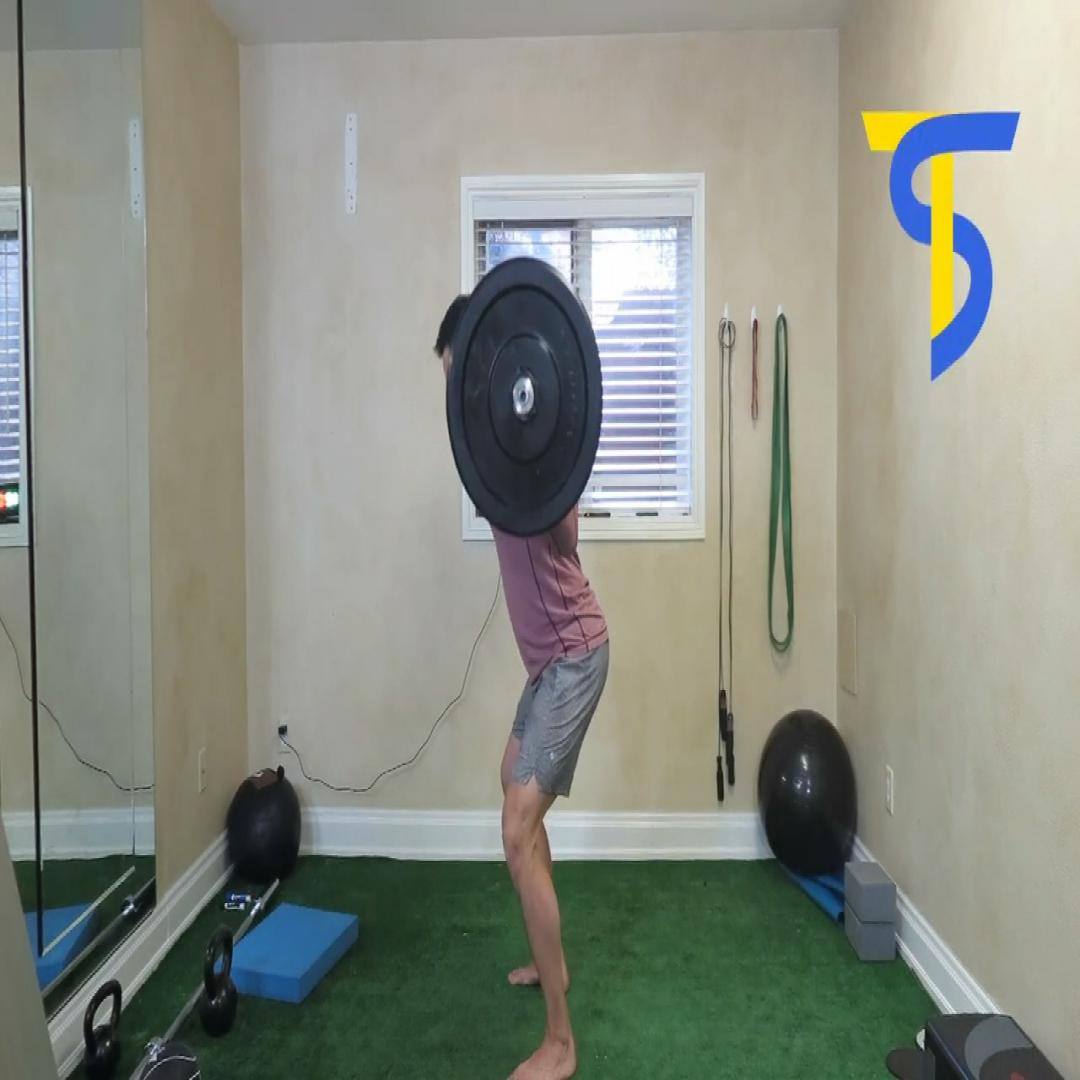Bar: (511, 374, 536, 418)
Barbell: (447, 256, 602, 538)
